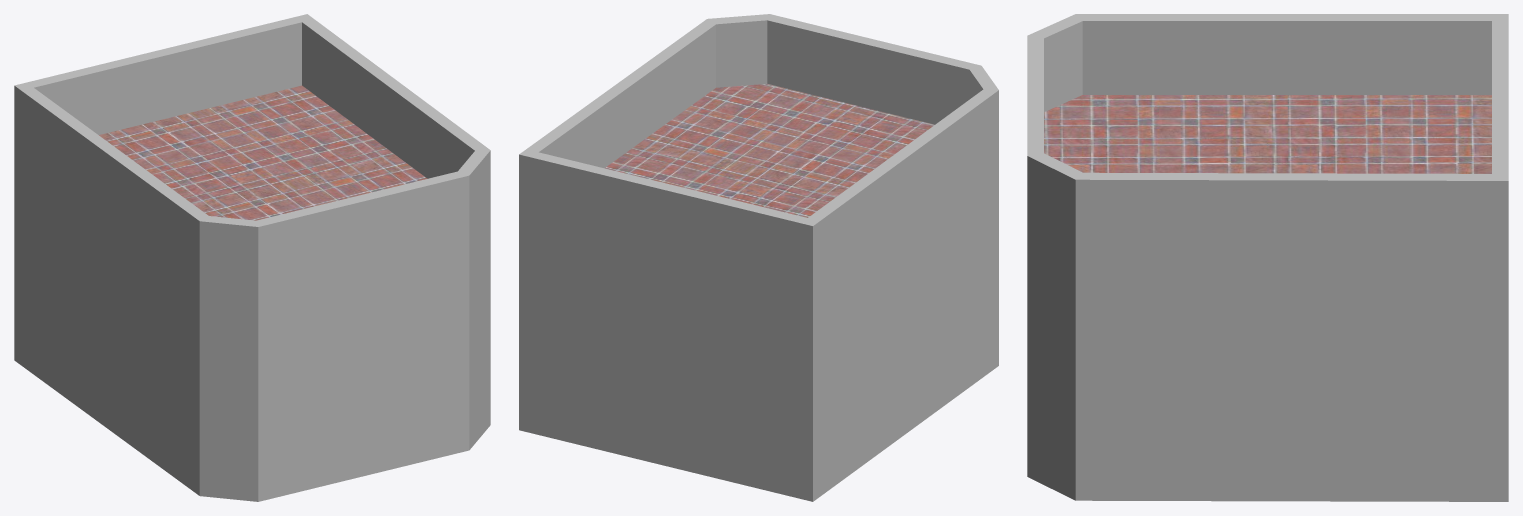
File: hirise_parts01_1f.fbx
The picture shows the model from 3 angles, left to right: view 1: azimuth 30°, elevation 25°; view 2: azimuth 150°, elevation 25°; view 3: azimuth 270°, elevation 25°; orthographic projection. The views are drawn at different scales.
Visible parts, largest first — view 1: hirise_parts01_1f; view 2: hirise_parts01_1f; view 3: hirise_parts01_1f.
Part boxes in pixels (x1,y1,x2,y2): hirise_parts01_1f: (14,14,490,501); hirise_parts01_1f: (519,14,998,501); hirise_parts01_1f: (1027,14,1508,501).
Bounding box in the file's own units: 6.4 × 5.74 × 7.8.
